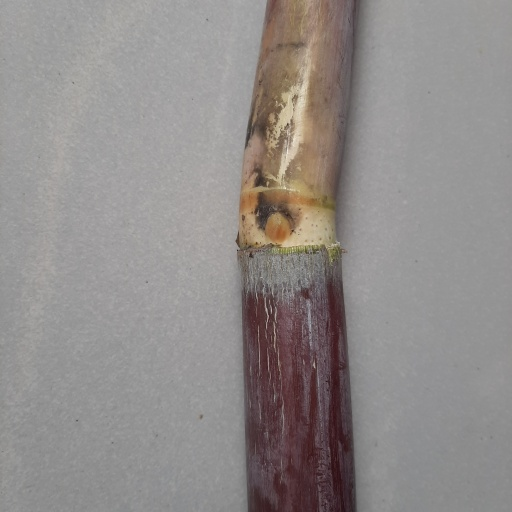Bud: (259, 212, 296, 243)
